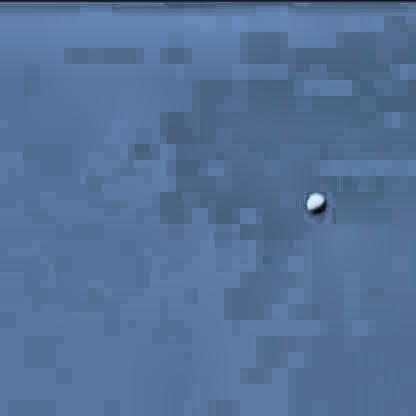golfball: (304, 186, 323, 208)
